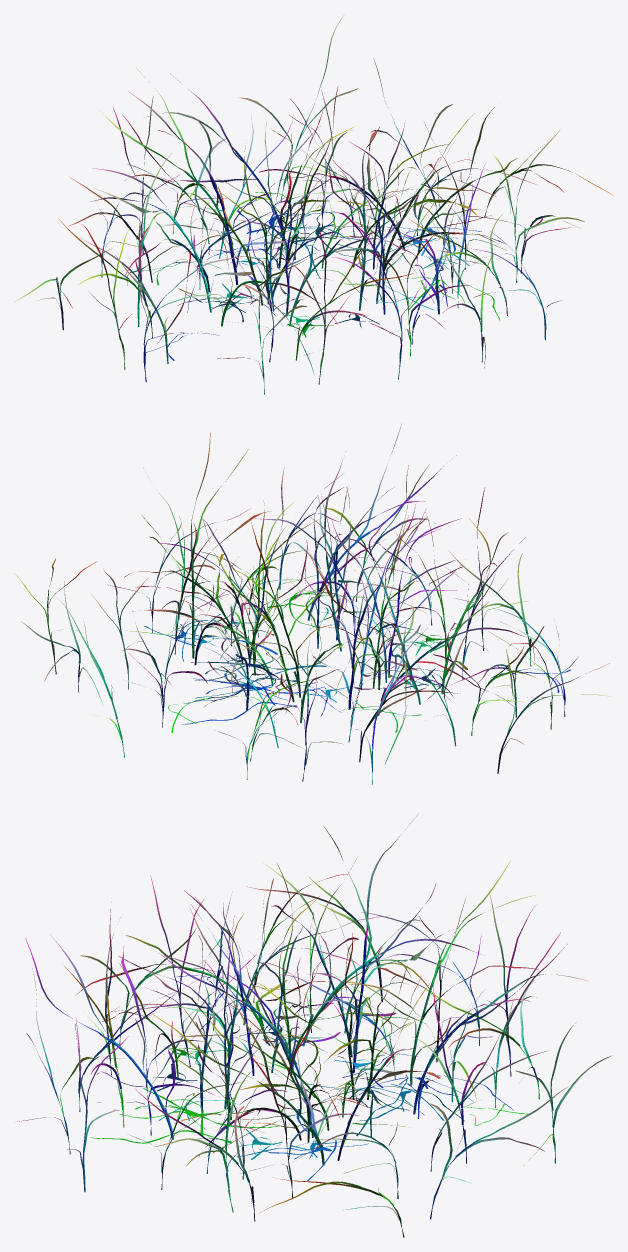
Rendered from Kikuyu_Grass_wiljearqx_Raw_wiljearqx_VarE_LOD0.fbx.
3 renders of one model, top to bottom at view 1: azimuth 30°, elevation 25°; view 2: azimuth 150°, elevation 25°; view 3: azimuth 270°, elevation 25°, orthographic. The views are drawn at different scales.
Parts seen in each view (by area): view 1: _8pn4_VarE_High; view 2: _8pn4_VarE_High; view 3: _8pn4_VarE_High.
Boxes of the visible parts, box(x1,y1,x2,y2) form: _8pn4_VarE_High: box(15, 15, 613, 394); _8pn4_VarE_High: box(14, 423, 613, 784); _8pn4_VarE_High: box(17, 813, 611, 1237).
Size of the model in its own units: 88.91 by 31.32 by 71.19.
